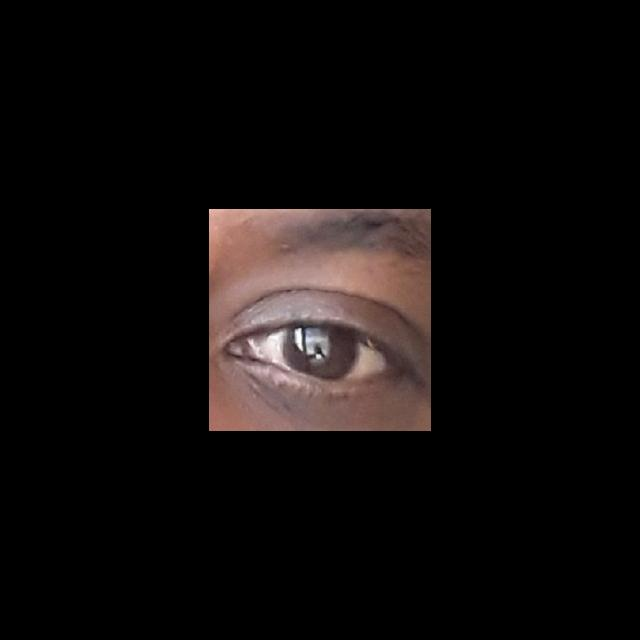eye: (264, 323, 384, 382)
iris: (283, 326, 359, 379)
